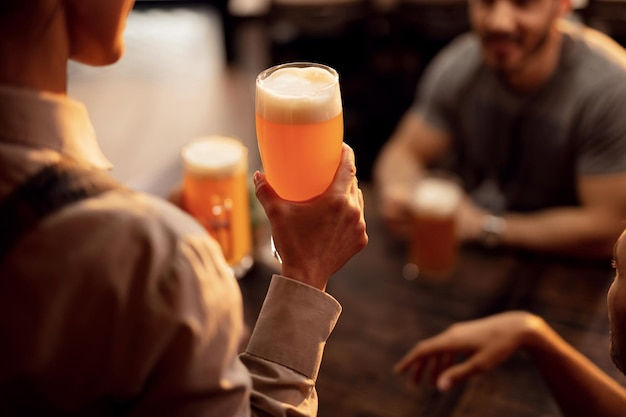alcohol: (254, 62, 348, 266), (180, 134, 257, 280), (405, 171, 466, 282)
